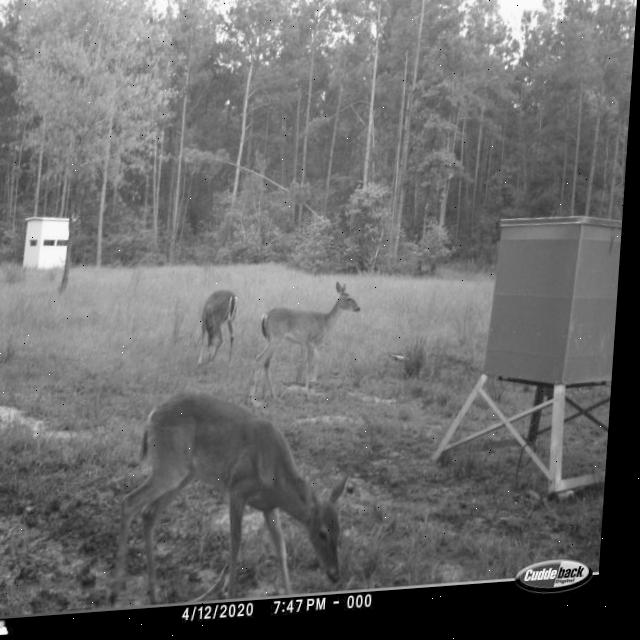Deer: (109, 376, 367, 610), (247, 276, 370, 411), (194, 287, 247, 377)
